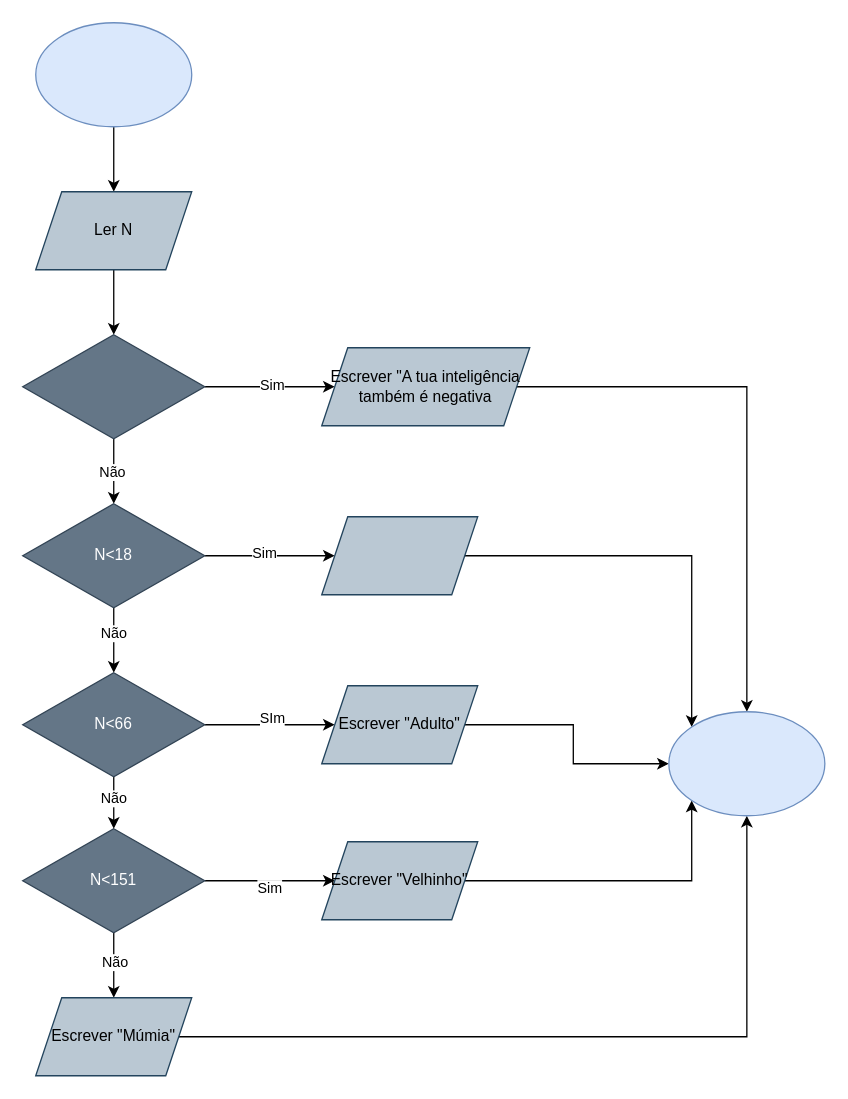
This 848x1099 diagram has some shape labels left out. Here are the shapes that lost their labels. From the top down, the box of each, then its label:
(34, 21, 192, 127): Início
(21, 333, 205, 439): N<0
(320, 515, 478, 595): Escrever "Puto"
(668, 710, 825, 816): Fim
